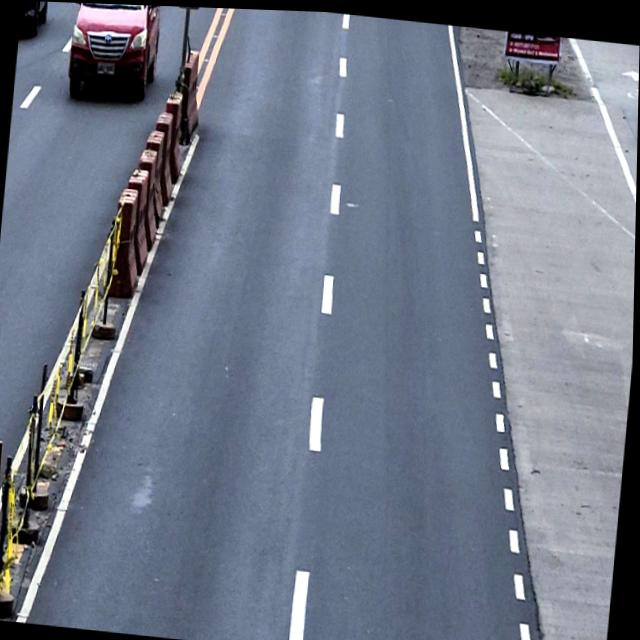Car: (62, 2, 162, 104)
License-Plate: (95, 58, 116, 75)
